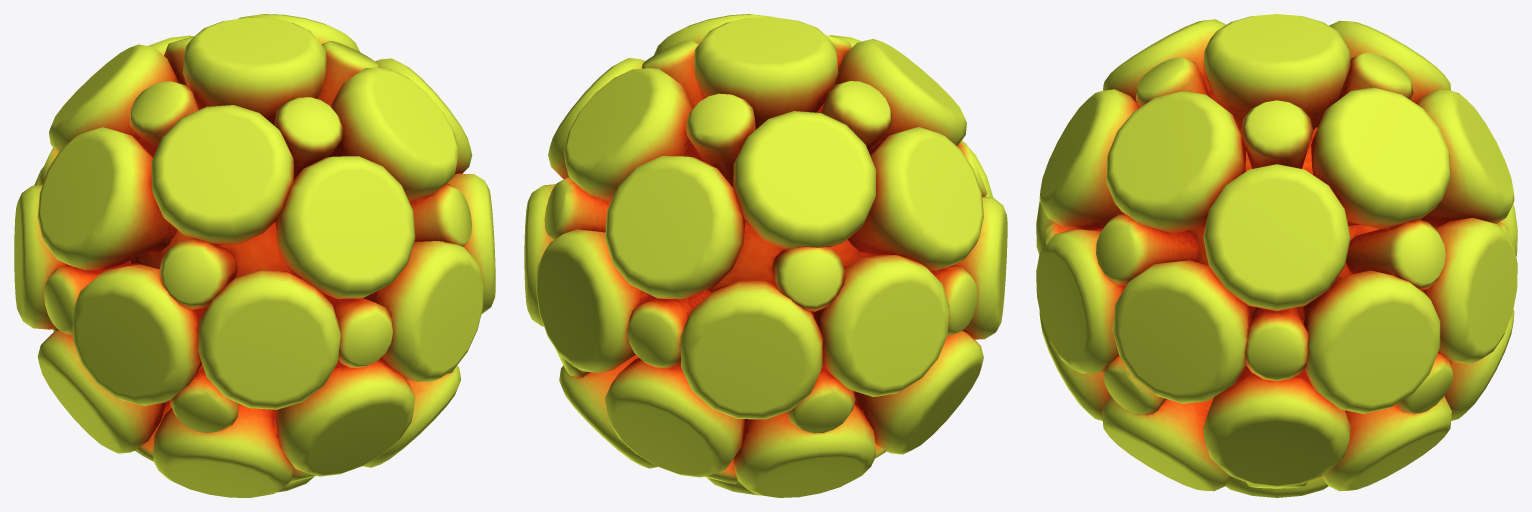
Rendered from fruitLeafy.fbx.
3 views of the same model, side by side, from view 1: azimuth 30°, elevation 25°; view 2: azimuth 150°, elevation 25°; view 3: azimuth 270°, elevation 25° (orthographic).
Parts seen in each view (by area): view 1: fruitLeafy; view 2: fruitLeafy; view 3: fruitLeafy.
Part boxes in pixels (x1,y1,x2,y2): fruitLeafy: (14, 14, 495, 497); fruitLeafy: (524, 14, 1007, 497); fruitLeafy: (1036, 14, 1517, 497).
Bounding box in the file's own units: 15.19 × 15.2 × 15.19.
1 material, 1 textured.
